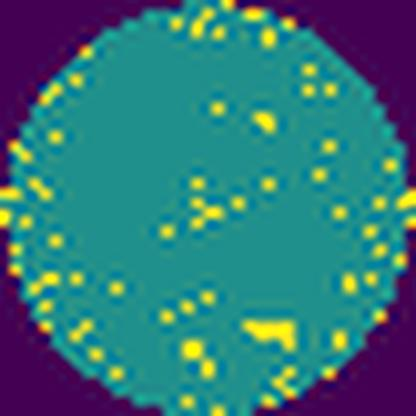Loc: (242, 318, 299, 354)
